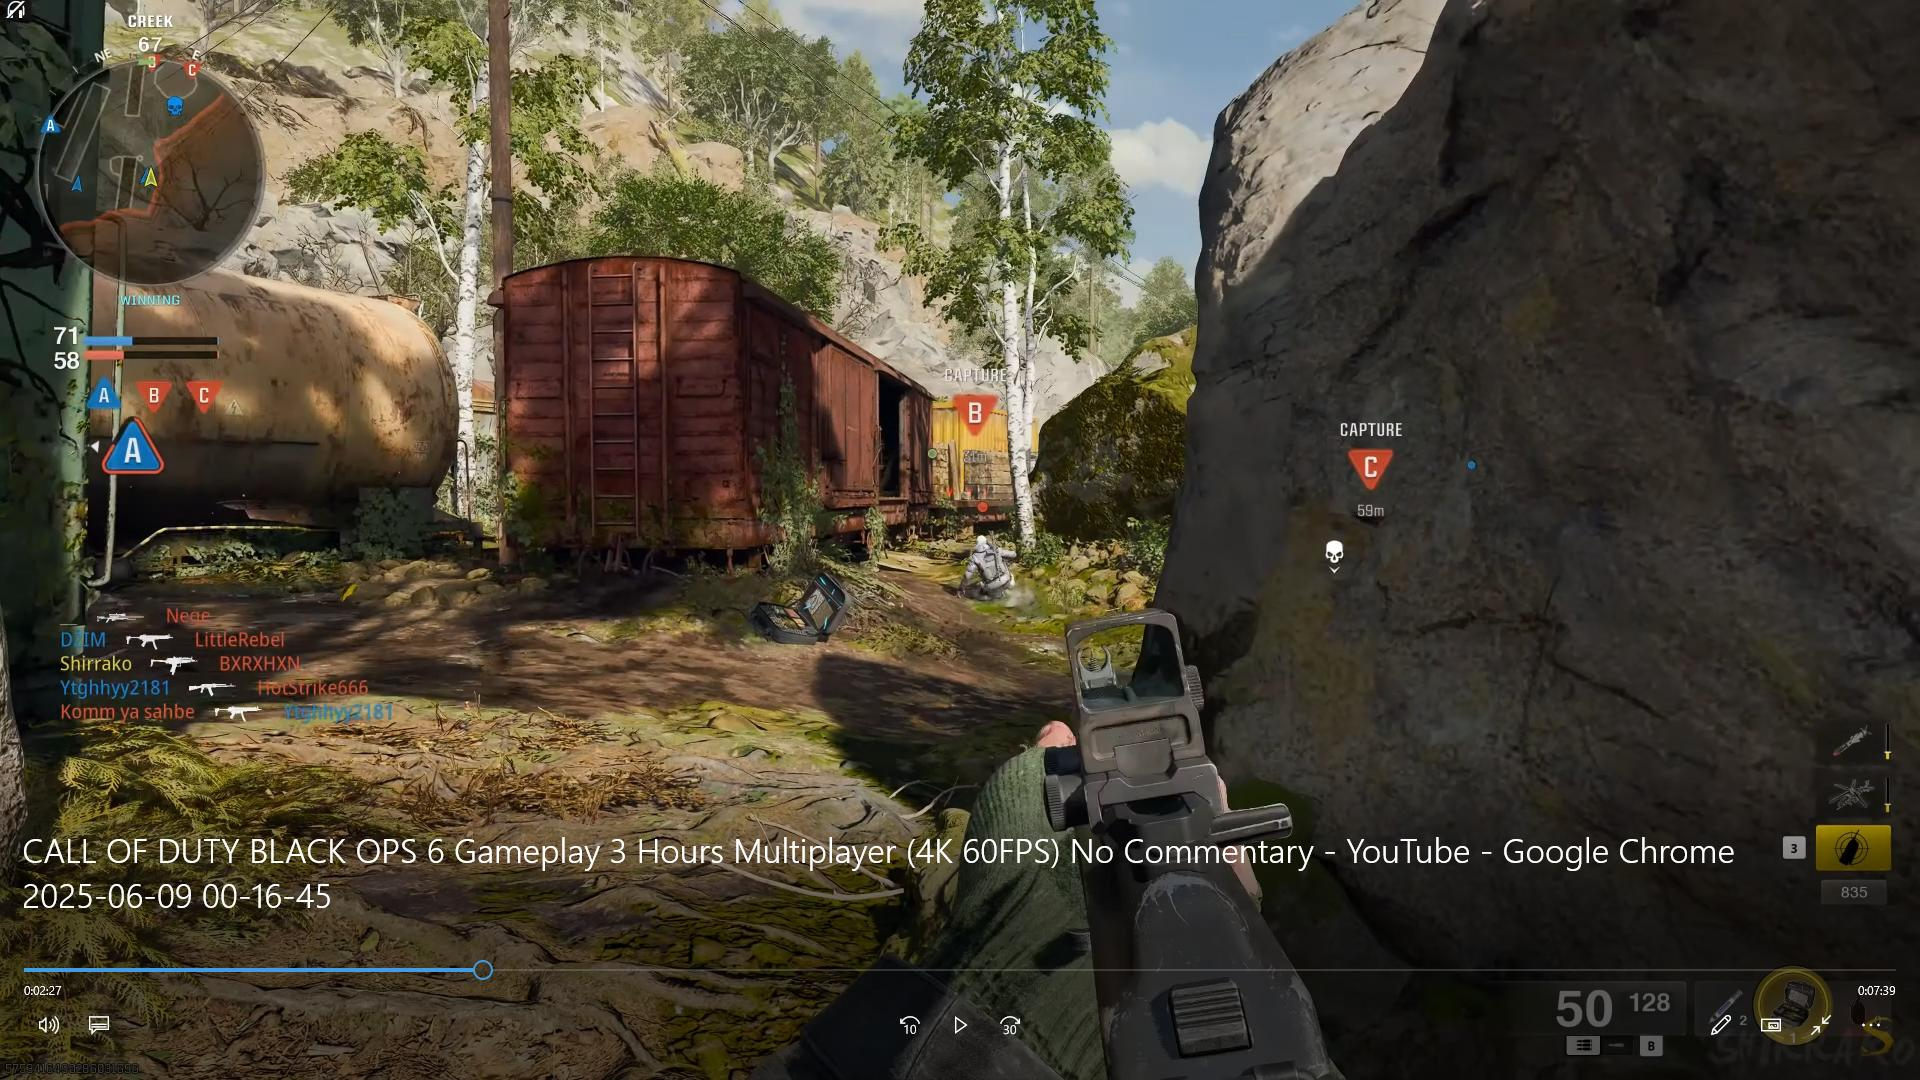Enemy: (959, 527, 1018, 600)
